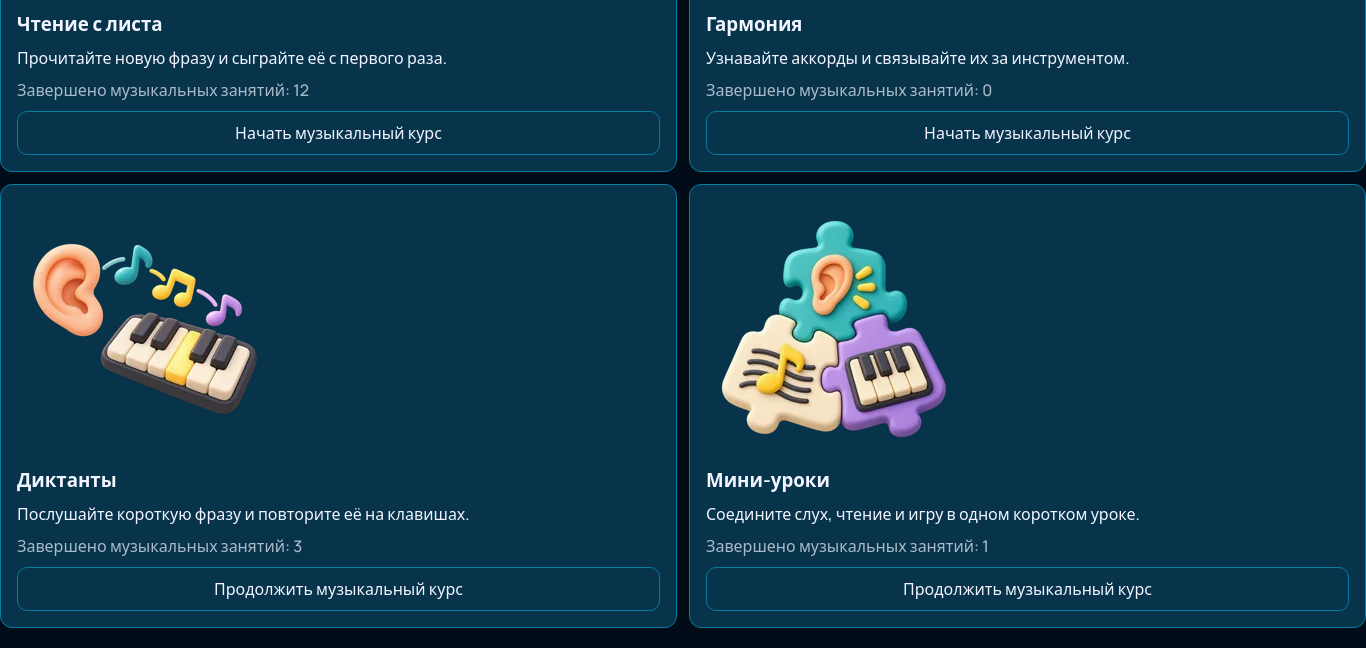
Test case: keeps four course IDs, original progress and one primary entry per card
(page scrolled)
Expected: the number of headings is 4, [17,11,163,37]; [706,11,802,37]; [17,467,117,493]; [706,467,830,493]
Click the button "Продолжить музыкальный курс" below "Завершено музыкальных занятий: 3".
click(338, 589)  # box [17,567,660,611]
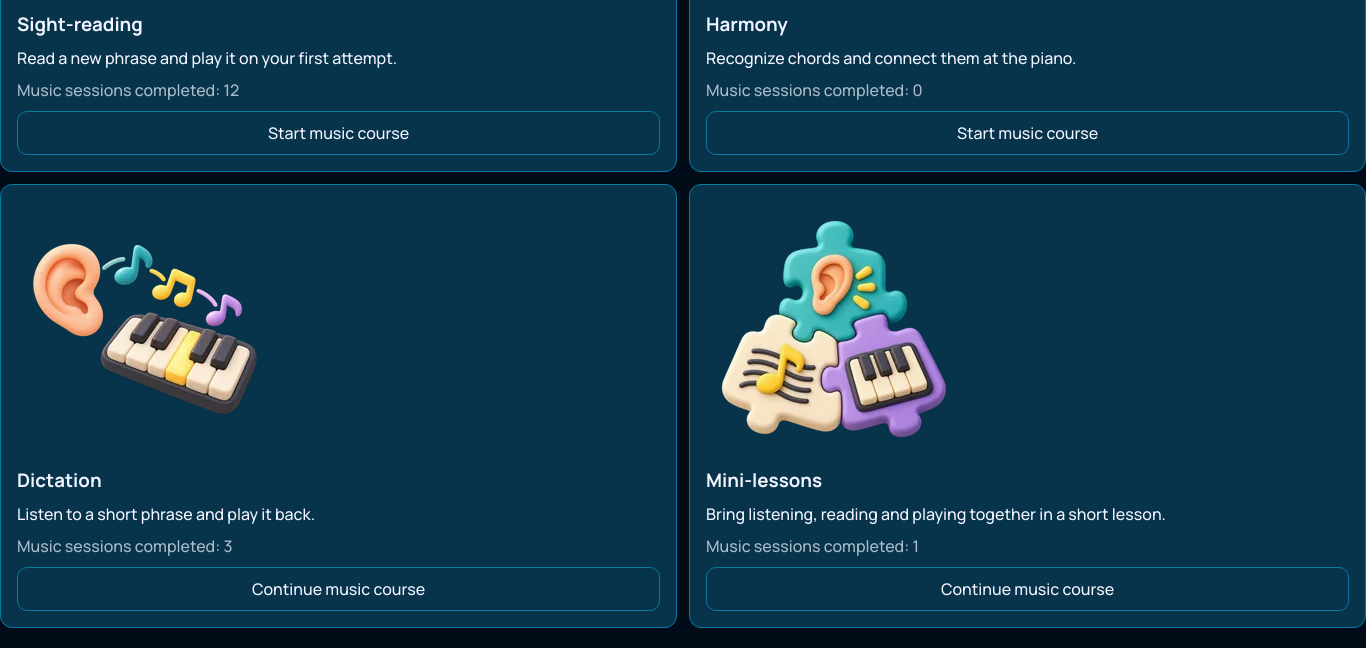
Now the text "Music sessions completed: 12" is shown, box [17,79,239,101]
Now the text "Continue music course" is shown, box [17,567,660,611]
